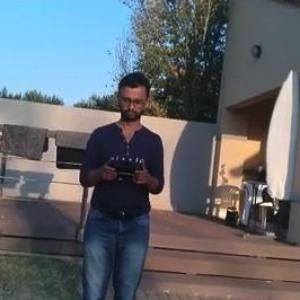follow: (73, 69, 174, 299)
